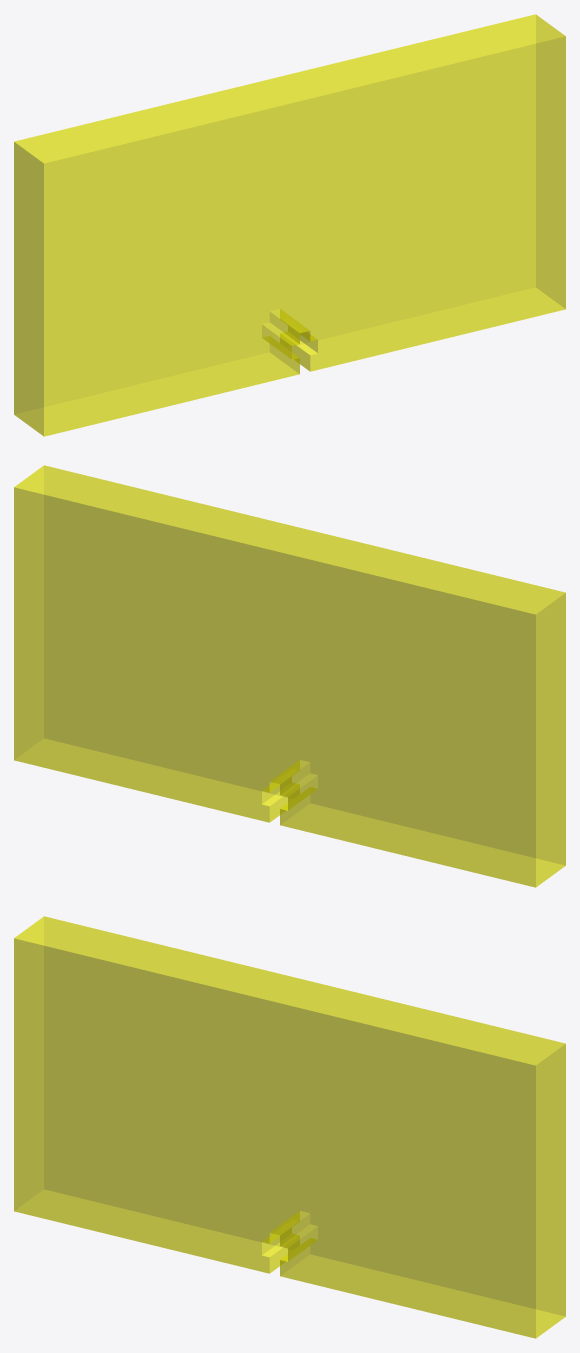
File: Walls4.glb
3 renders of one model, top to bottom at view 1: azimuth 30°, elevation 25°; view 2: azimuth 150°, elevation 25°; view 3: azimuth 330°, elevation 25°, orthographic.
Parts seen in each view (by area): view 1: Cube; view 2: Cube; view 3: Cube.
Boxes of the visible parts, bbox=[...] form: Cube: bbox=[14, 14, 565, 436]; Cube: bbox=[14, 465, 565, 887]; Cube: bbox=[14, 916, 565, 1338].
Size of the model in its own units: 20 by 10 by 2.
